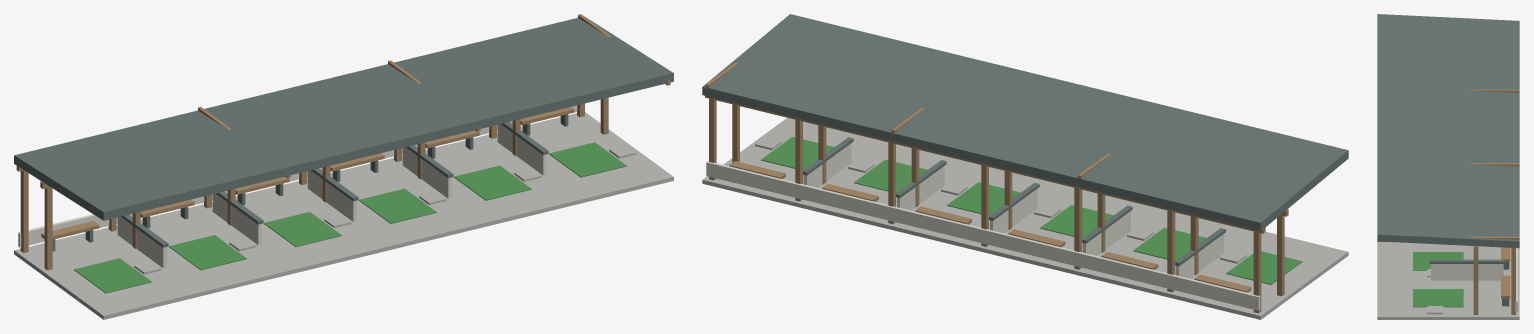
The model's file is range_shelter_03.glb.
The picture shows the model from 3 angles, left to right: view 1: azimuth 30°, elevation 25°; view 2: azimuth 150°, elevation 25°; view 3: azimuth 270°, elevation 25°; orthographic projection. The views are drawn at different scales.
Parts seen in each view (by area): view 1: Range_shelter_03; view 2: Range_shelter_03; view 3: Range_shelter_03.
Part boxes in pixels (x1=…): Range_shelter_03: x1=14, y1=14, x2=673, y2=319; Range_shelter_03: x1=702, y1=14, x2=1348, y2=319; Range_shelter_03: x1=1377, y1=14, x2=1519, y2=319.
Bounding box in the file's own units: 18 × 3.25 × 4.9.
